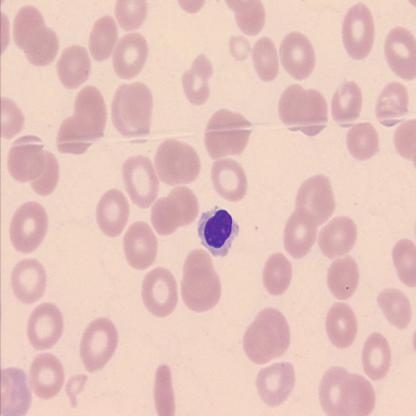NRC: (195, 203, 242, 256)
